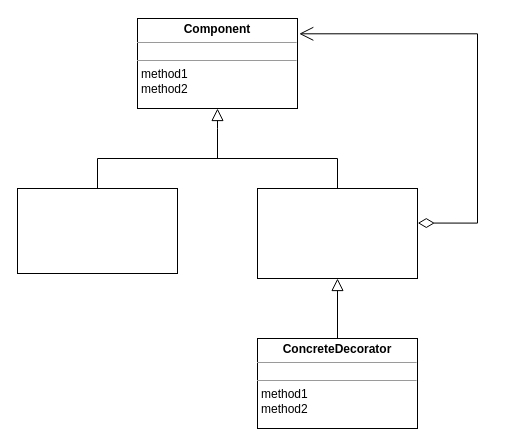
Image size: 512x446. Some labels were removed from this diagram. Here are the shapes that lost their labels. From the top down, the box of each, then its label:
(16, 188, 178, 274): ConcreteComponent method1 method2
(256, 188, 418, 278): Decorator component
